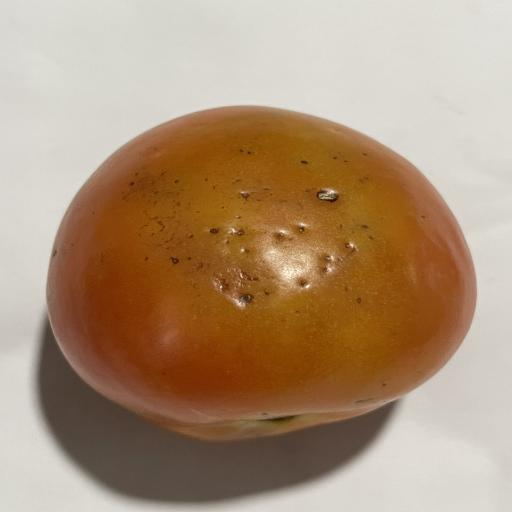overipe: (47, 106, 475, 440)
